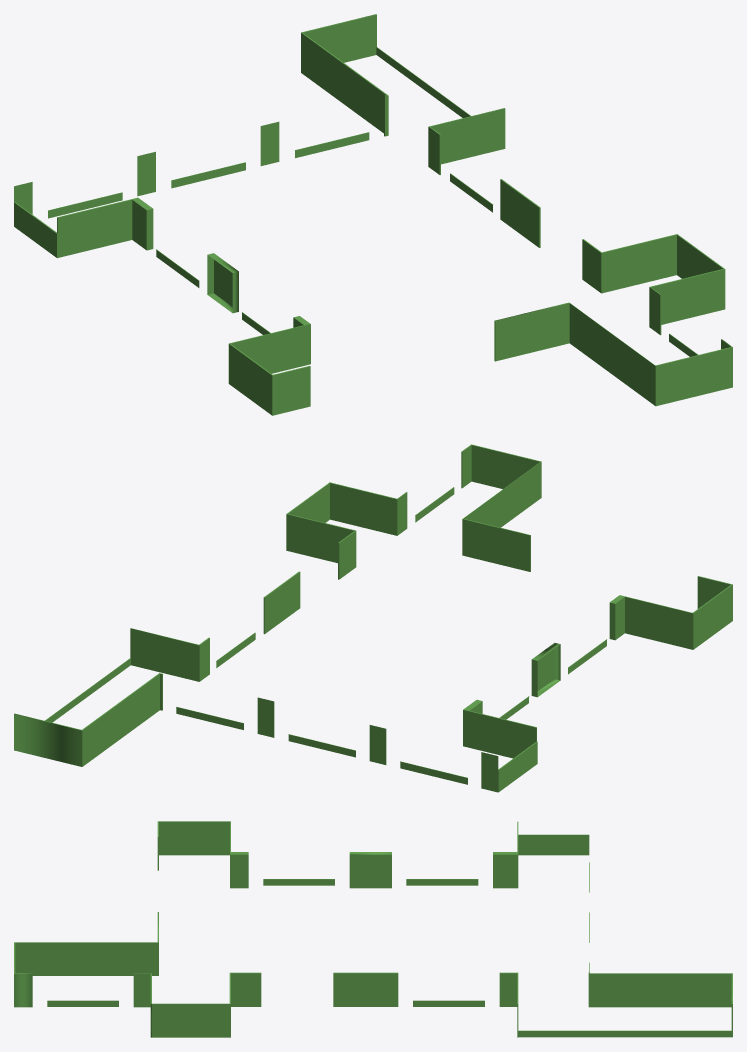
The model's file is Walls 10Floor.fbx.
The picture shows the model from 3 angles, top to bottom: view 1: azimuth 30°, elevation 25°; view 2: azimuth 150°, elevation 25°; view 3: azimuth 270°, elevation 25°; orthographic projection. The views are drawn at different scales.
Parts seen in each view (by area): view 1: Hallway_wall17, Hallway_wall14, Hallway_wall8, Hallway_wall16, Hallway_wall, Hallway_wall22, Hallway_wall21, Wall_segment4, Classroom_wall6, Lab_wall42, Wall_segment8, Wall_segment7 (+3 smaller); view 2: Hallway_wall17, Hallway_wall14, Hallway_wall16, Hallway_wall8, Hallway_wall22, Hallway_wall, Hallway_wall21, Wall_segment4, Classroom_wall6, Lab_wall42, Wall_segment6, Wall_segment8 (+1 smaller); view 3: Hallway_wall17, Hallway_wall16, Hallway_wall14, Hallway_wall8, Hallway_wall21, Lab_wall42, Wall_segment4, Classroom_wall6, Hallway_wall, Hallway_wall22, Lab_wall47, Lab_wall24 (+2 smaller).
Part boxes in pixels (x1,y1,x2,y2): Hallway_wall17: (494,302,732,406); Hallway_wall14: (582,234,725,335); Hallway_wall8: (228,316,310,415); Hallway_wall16: (301,14,388,136); Hallway_wall: (57,197,153,257); Hallway_wall22: (428,108,505,174); Hallway_wall21: (500,179,540,247); Wall_segment4: (207,253,238,313); Classroom_wall6: (14,202,58,258); Lab_wall42: (376,47,470,117); Wall_segment8: (260,121,279,165); Wall_segment7: (137,151,155,196); Hallway_wall17: (461,444,541,571); Hallway_wall14: (286,482,407,579); Hallway_wall16: (14,673,162,766); Hallway_wall8: (609,576,732,649); Hallway_wall22: (130,628,209,681); Hallway_wall: (463,699,536,758); Hallway_wall21: (263,571,300,634); Wall_segment4: (531,642,560,697); Classroom_wall6: (498,741,537,792); Lab_wall42: (45,658,130,722); Wall_segment6: (481,752,498,792); Wall_segment8: (257,697,274,737); Hallway_wall17: (14,912,158,1007); Hallway_wall16: (588,972,732,1037); Hallway_wall14: (133,972,261,1037); Hallway_wall8: (157,821,248,888); Hallway_wall21: (333,972,398,1006); Lab_wall42: (518,1030,731,1037); Wall_segment4: (349,852,391,888); Classroom_wall6: (518,834,589,855); Hallway_wall: (493,821,518,888); Hallway_wall22: (499,972,518,1037); Lab_wall47: (406,879,478,885); Lab_wall24: (47,1000,118,1006).
Bounding box in the file's own units: 3610 × 310 × 6000.
